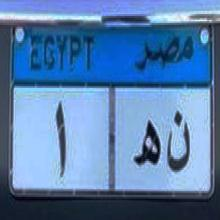1: (54, 100, 69, 178)
haa: (131, 116, 162, 175)
noon: (165, 105, 191, 176)
